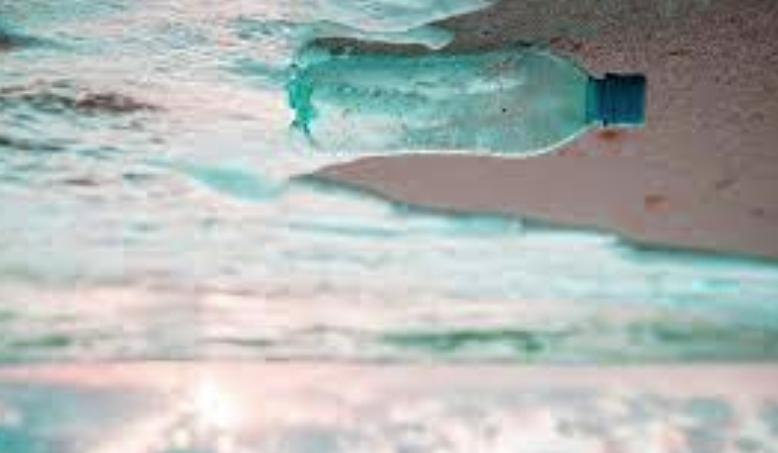Plastic: (279, 27, 653, 162)
